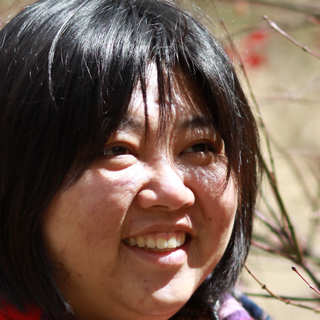eye: (180, 138, 220, 163)
